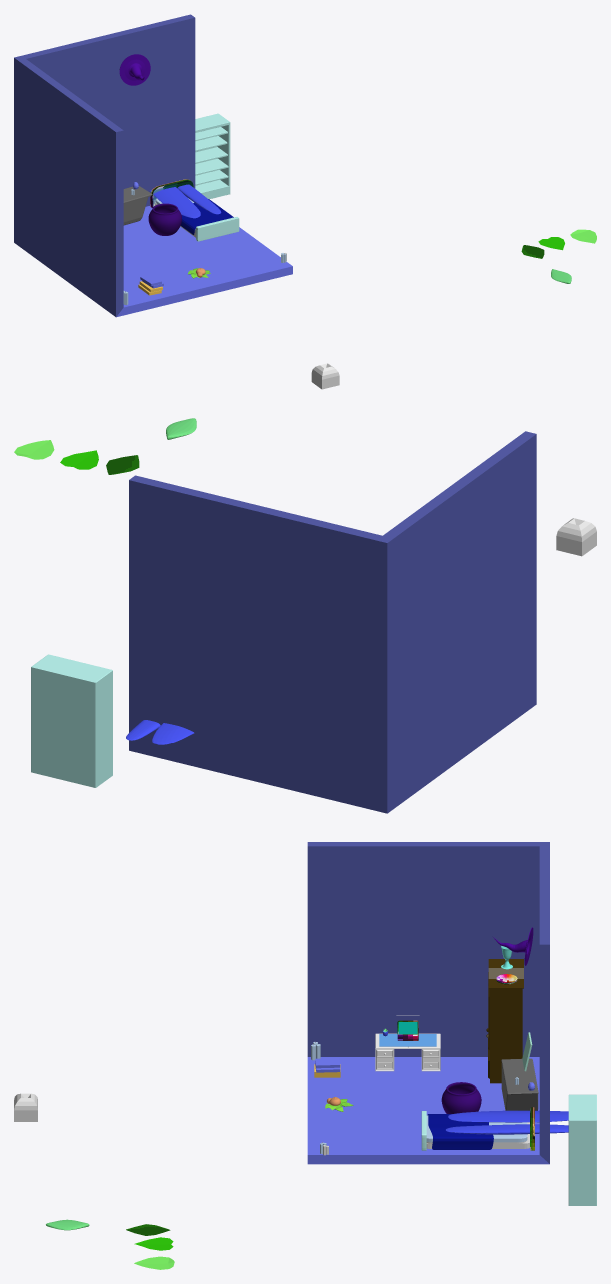
The model's file is WITCHYfURNITURE.fbx.
3 views of the same model, one above another, from view 1: azimuth 30°, elevation 25°; view 2: azimuth 150°, elevation 25°; view 3: azimuth 270°, elevation 25° (orthographic). The views are drawn at different scales.
Visible parts, largest first — view 1: DefaultRoom, Cube.008, cauldrin, Cube.002, WitchHat1, Cube.003, Cube.006, Plane, Cube.014, Cube.004; view 2: DefaultRoom, Cube.008, Cube.014, Cube.003, Leafs.001, Leafs.002; view 3: DefaultRoom, Witchy_BookShelf, Cube.008, Cube.002, Plane, Cube.009, Cube.003, cauldrin, Cube.004, Cube.014, Plane.007.
Part boxes in pixels (bbox=[...]): DefaultRoom: bbox=[14, 14, 292, 317]; Cube.008: bbox=[195, 113, 230, 199]; cauldrin: bbox=[148, 203, 181, 235]; Cube.002: bbox=[123, 186, 152, 225]; WitchHat1: bbox=[119, 54, 150, 85]; Cube.003: bbox=[150, 187, 200, 218]; Cube.006: bbox=[196, 217, 239, 241]; Plane: bbox=[180, 199, 233, 234]; Cube.014: bbox=[311, 363, 339, 389]; Cube.004: bbox=[177, 184, 221, 214]; DefaultRoom: bbox=[129, 431, 536, 813]; Cube.008: bbox=[31, 654, 112, 787]; Cube.014: bbox=[556, 518, 596, 556]; Cube.003: bbox=[152, 723, 194, 744]; Leafs.001: bbox=[14, 440, 54, 459]; Leafs.002: bbox=[60, 450, 98, 469]; DefaultRoom: bbox=[307, 842, 549, 1164]; Witchy_BookShelf: bbox=[486, 959, 523, 1083]; Cube.008: bbox=[568, 1094, 596, 1205]; Cube.002: bbox=[501, 1058, 538, 1110]; Plane: bbox=[427, 1114, 493, 1149]; Cube.009: bbox=[375, 1033, 440, 1071]; Cube.003: bbox=[448, 1110, 568, 1122]; cauldrin: bbox=[441, 1082, 481, 1113]; Cube.004: bbox=[446, 1124, 568, 1134]; Cube.014: bbox=[14, 1093, 37, 1121]; Plane.007: bbox=[379, 1034, 436, 1046].
Size of the model in its own units: 502 by 493 by 223.
